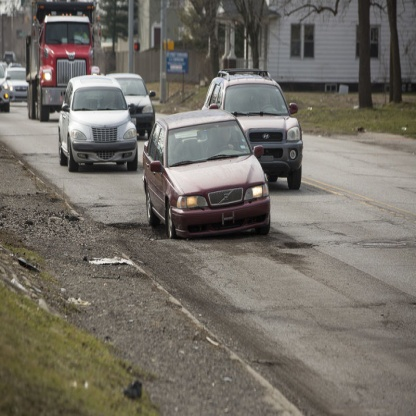pothole: (86, 212, 171, 246), (275, 237, 317, 253)
